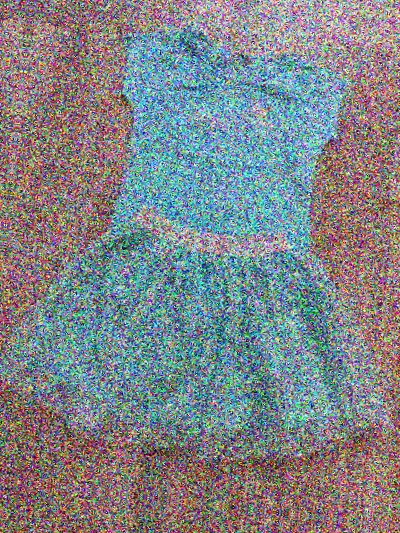Dress: (0, 19, 400, 489), (0, 0, 19, 441), (0, 514, 368, 533)
